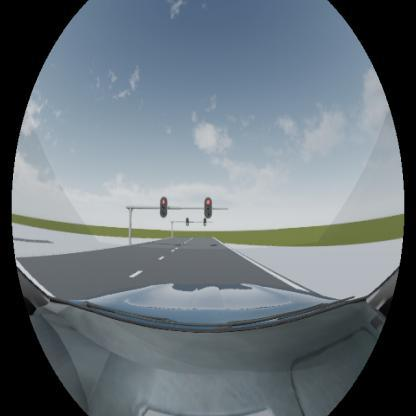Green Light: (186, 219, 189, 226)
Red Light: (204, 198, 212, 219), (160, 197, 167, 217)
